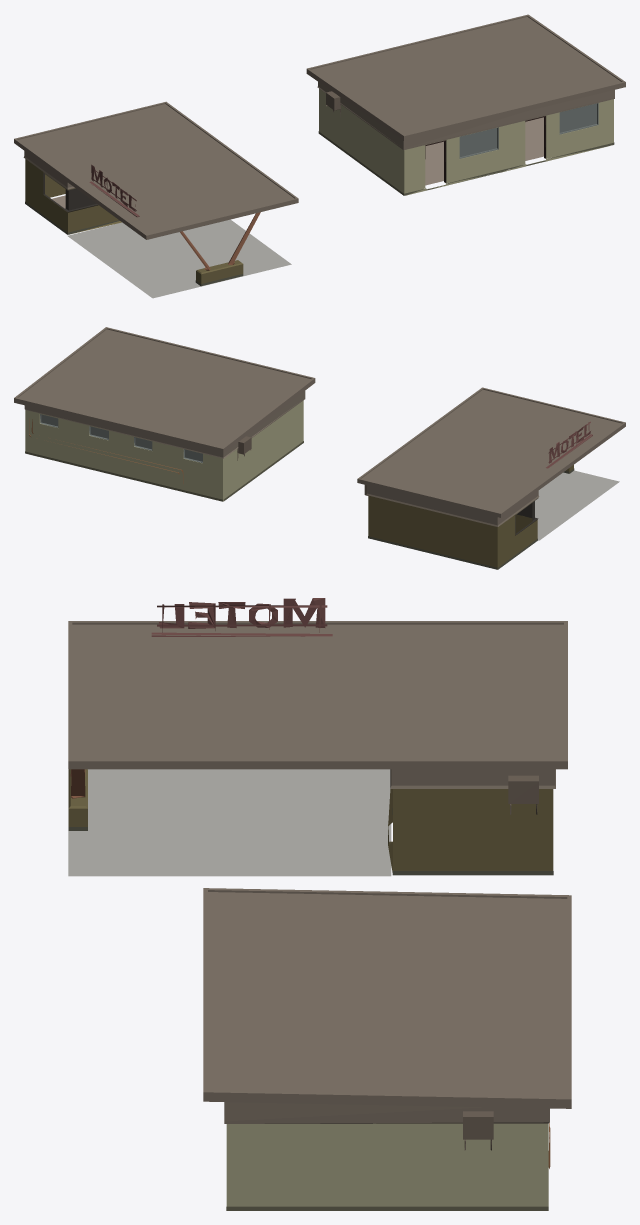
Rendered from modular-motel.zfix-v5.lod2.glb.
The picture shows the model from 3 angles, top to bottom: view 1: azimuth 30°, elevation 25°; view 2: azimuth 150°, elevation 25°; view 3: azimuth 270°, elevation 25°; orthographic projection. The views are drawn at different scales.
Parts seen in each view (by area): view 1: ReceptionCabinWindow_ReceptionCabinWindows_0; view 2: ReceptionCabinWindow_ReceptionCabinWindows_0; view 3: ReceptionCabinWindow_ReceptionCabinWindows_0.
Boxes of the visible parts, box(x1,y1,x2,y2) form: ReceptionCabinWindow_ReceptionCabinWindows_0: box(14, 14, 625, 298); ReceptionCabinWindow_ReceptionCabinWindows_0: box(14, 327, 625, 569); ReceptionCabinWindow_ReceptionCabinWindows_0: box(68, 598, 571, 1210).
Size of the model in its own units: 24.49 by 3.77 by 10.94.
